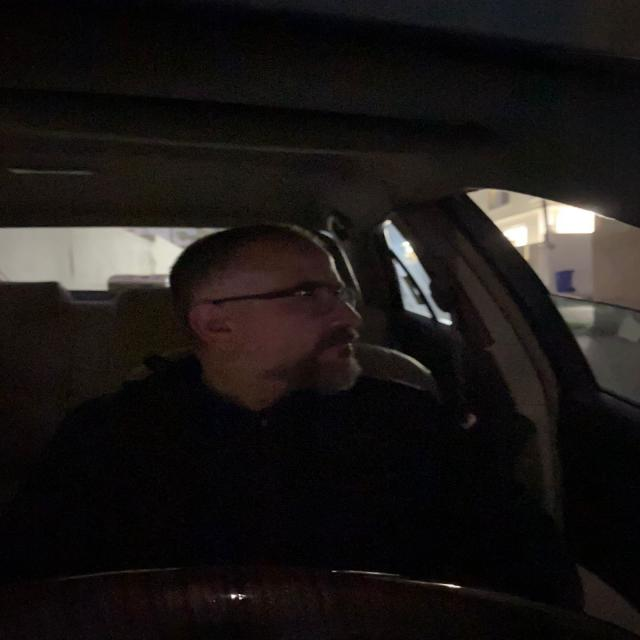LeftRight: (164, 212, 386, 409)
